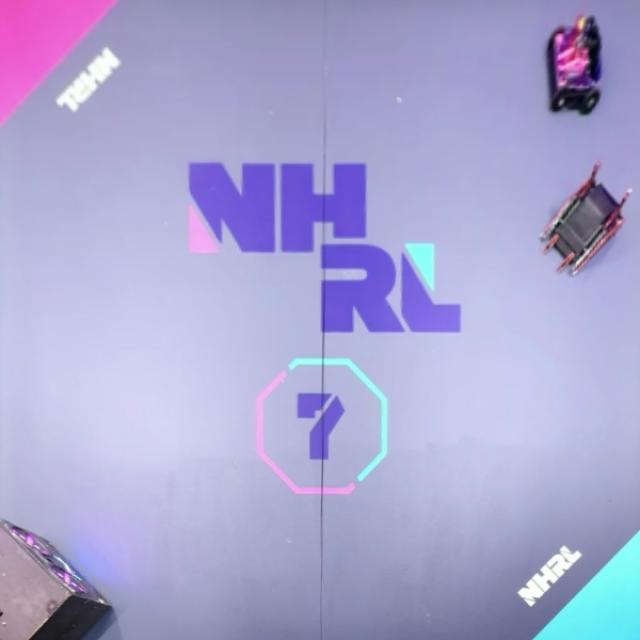housebot: (0, 519, 115, 640)
robot: (542, 159, 634, 276), (546, 15, 605, 114)
